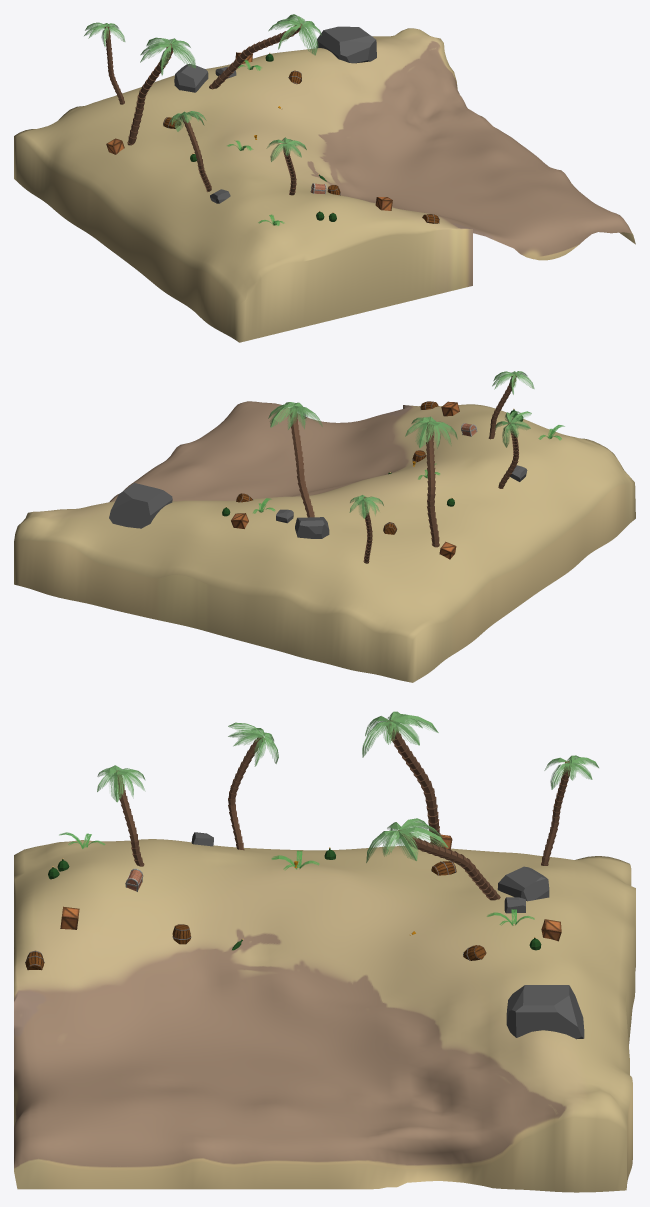
File: beach.glb
3 views of the same model, one above another, from view 1: azimuth 30°, elevation 25°; view 2: azimuth 150°, elevation 25°; view 3: azimuth 270°, elevation 25° (orthographic). The views are drawn at different scales.
Visible parts, largest first — view 1: spiaggia, sasso3, palma 2.003, palma 2.004, sasso 2, palma 2.006; view 2: spiaggia, sasso3, palma 2.003, palma 2.004, sasso 2; view 3: spiaggia, sasso3, palma 2.003, sasso 2, palma 2.004, palma 2.006, palma 2.005, palma 2.
Boxes of the visible parts, left/top/right/bottom form: spiaggia: left=14, top=28, right=635, bottom=342; sasso3: left=316, top=26, right=376, bottom=63; palma 2.003: left=127, top=44, right=173, bottom=145; palma 2.004: left=209, top=23, right=302, bottom=89; sasso 2: left=174, top=64, right=208, bottom=92; palma 2.006: left=181, top=115, right=211, bottom=191; spiaggia: left=14, top=401, right=635, bottom=682; sasso3: left=109, top=483, right=172, bottom=528; palma 2.003: left=426, top=421, right=439, bottom=547; palma 2.004: left=290, top=408, right=314, bottom=517; sasso 2: left=295, top=517, right=329, bottom=538; spiaggia: left=14, top=839, right=635, bottom=1192; sasso3: left=506, top=985, right=584, bottom=1039; palma 2.003: left=386, top=720, right=441, bottom=846; sasso 2: left=497, top=866, right=549, bottom=901; palma 2.004: left=396, top=830, right=500, bottom=900; palma 2.006: left=228, top=736, right=265, bottom=850; palma 2.005: left=541, top=761, right=570, bottom=865; palma 2: left=114, top=770, right=144, bottom=866.
Size of the model in its own units: 103 by 44.43 by 98.78.
8 materials, 8 textured.
